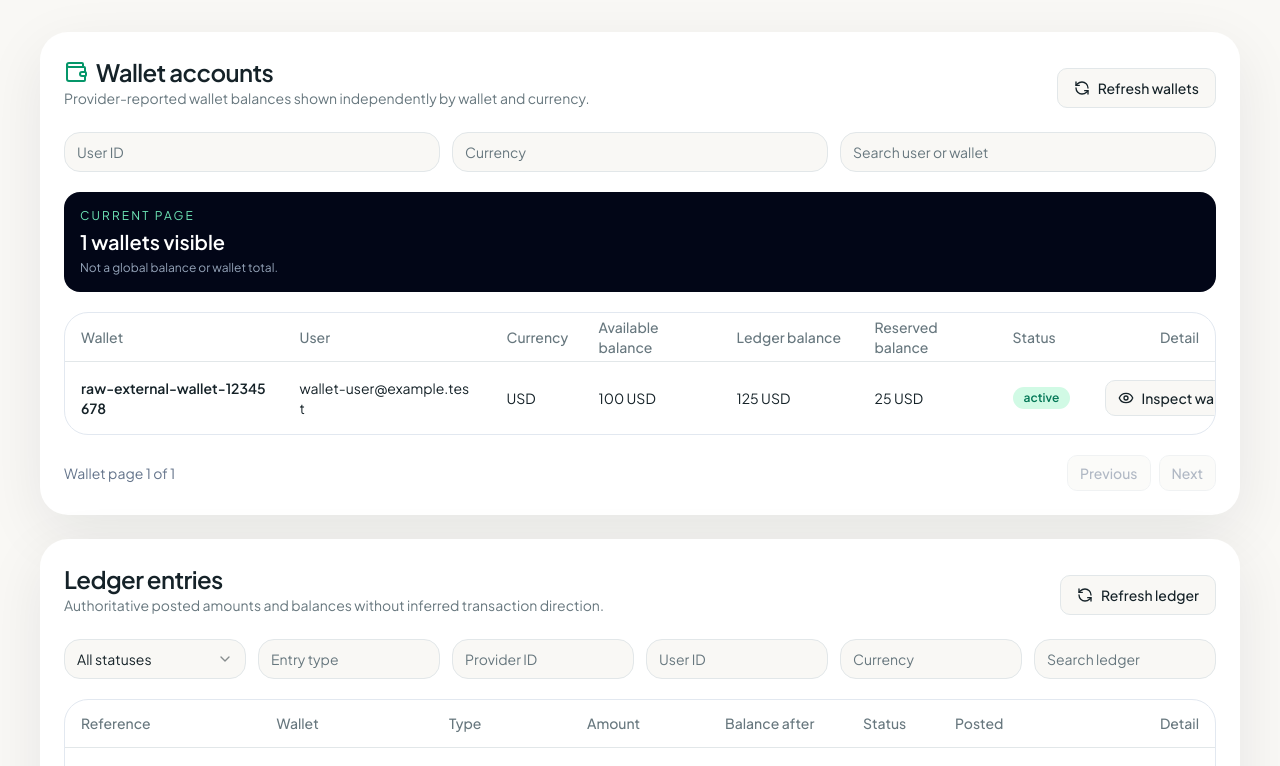
Test: uses provider balance timestamp semantics without inferring reconciliation
Click the button "Inspect wallet" at (1176, 398), box [1104,380,1248,416]
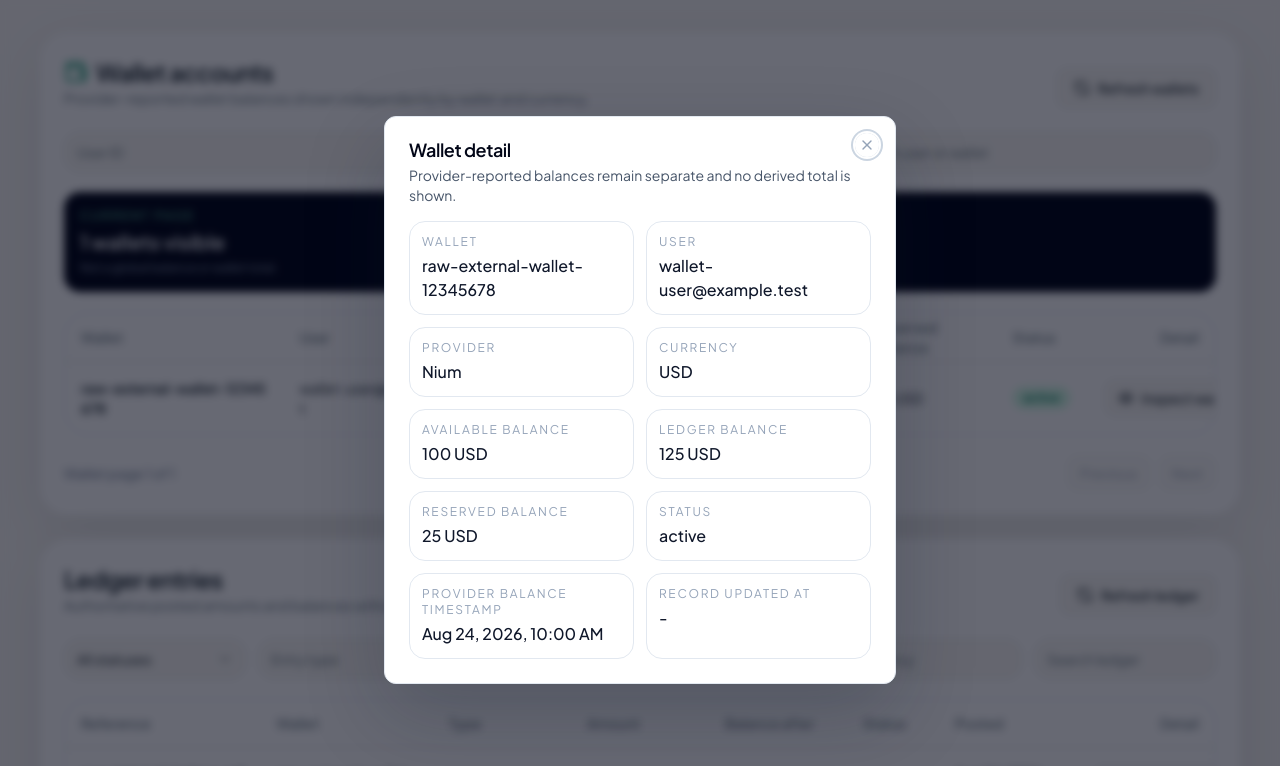
Expected: the column heading "Available balance" is shown, [582,313,720,361]
Expected: the text "Provider balance timestamp" is shown, [422,586,567,617]
